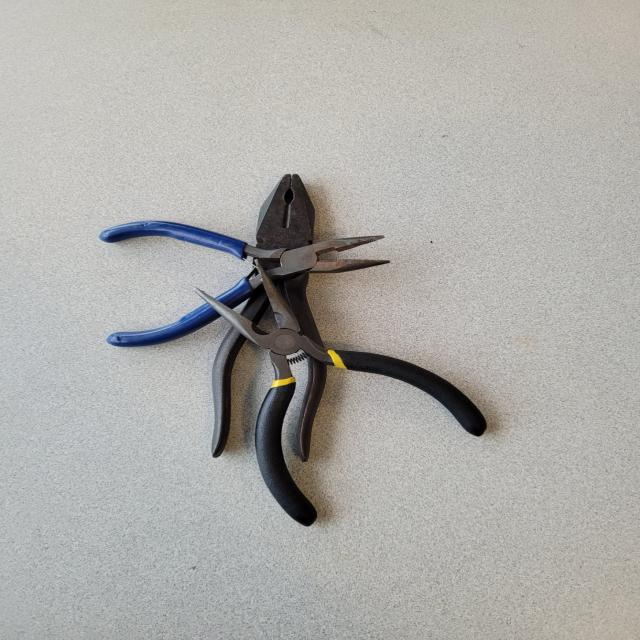Black Plain Pliers: (206, 170, 330, 467)
Black-Yellow Pliers: (185, 253, 493, 536)
Blue Pliers: (94, 214, 395, 349)
